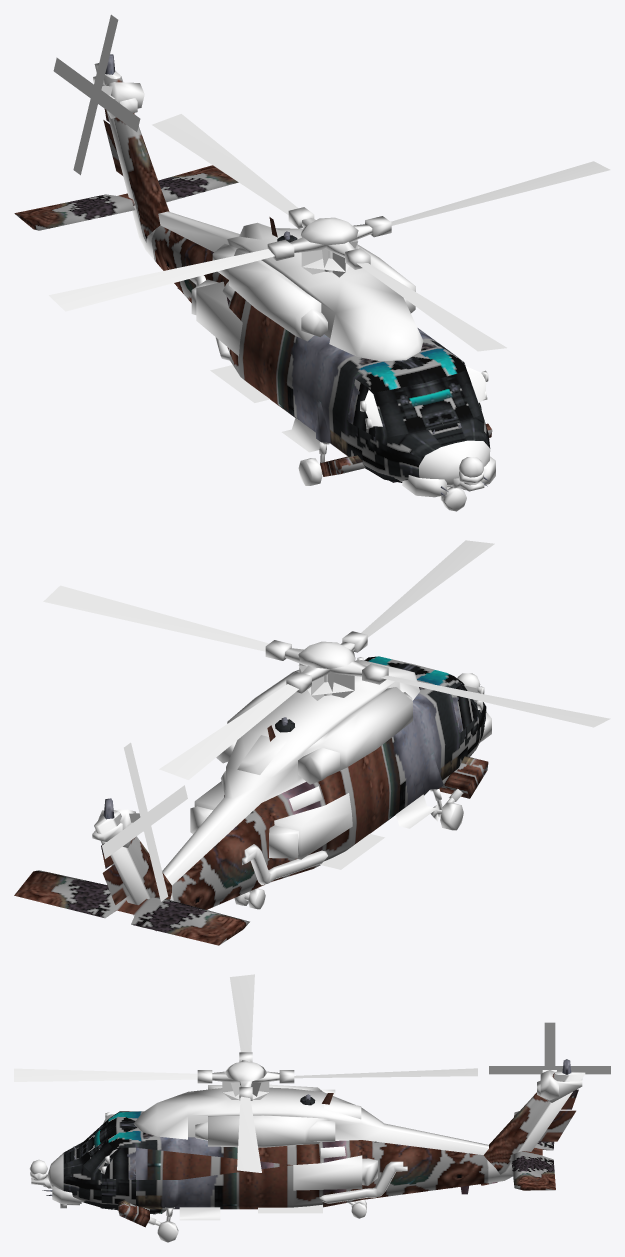
File: helicopter.obj
3 renders of one model, top to bottom at view 1: azimuth 30°, elevation 25°; view 2: azimuth 150°, elevation 25°; view 3: azimuth 270°, elevation 25°, orthographic. The views are drawn at different scales.
Parts seen in each view (by area): view 1: rdmobj00; view 2: rdmobj00; view 3: rdmobj00.
Part boxes in pixels (x1=…): rdmobj00: x1=14, y1=14, x2=610, y2=511; rdmobj00: x1=14, y1=540, x2=610, y2=945; rdmobj00: x1=14, y1=974, x2=610, y2=1242.
Bounding box in the file's own units: 12.64 × 5.71 × 16.26.
2 materials, 2 textured.
